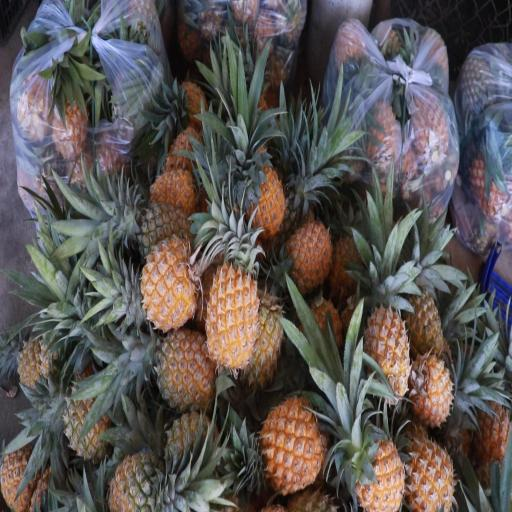------------------------------: (107, 428, 184, 511), (60, 378, 112, 464), (128, 190, 194, 255)
Pineapple - v8 v1: (207, 230, 260, 382), (262, 384, 328, 487), (147, 320, 218, 414), (138, 233, 200, 334), (362, 284, 412, 408), (398, 417, 455, 512), (238, 275, 284, 389), (350, 418, 406, 510), (464, 388, 512, 488), (236, 148, 286, 241), (283, 212, 337, 291), (400, 280, 445, 373), (406, 349, 456, 431), (0, 431, 43, 511), (147, 155, 200, 214), (171, 66, 214, 130), (12, 341, 54, 402)
